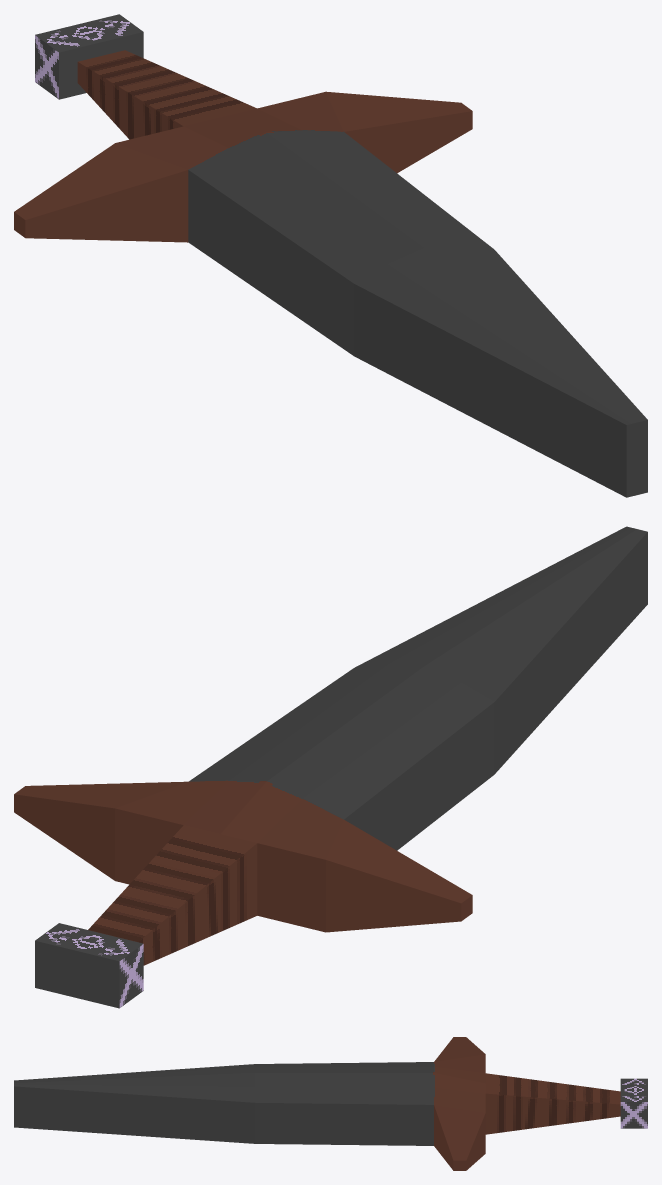
File: gamingsword.glb
The picture shows the model from 3 angles, top to bottom: view 1: azimuth 30°, elevation 25°; view 2: azimuth 150°, elevation 25°; view 3: azimuth 270°, elevation 25°; orthographic projection. The views are drawn at different scales.
Parts seen in each view (by area): view 1: Cube; view 2: Cube; view 3: Cube.
Boxes of the visible parts, bbox=[...] form: Cube: bbox=[14, 14, 647, 497]; Cube: bbox=[14, 526, 647, 1008]; Cube: bbox=[14, 1037, 647, 1170].
Size of the model in its own units: 2.17 by 0.514 by 4.71.
1 material, 1 textured.
